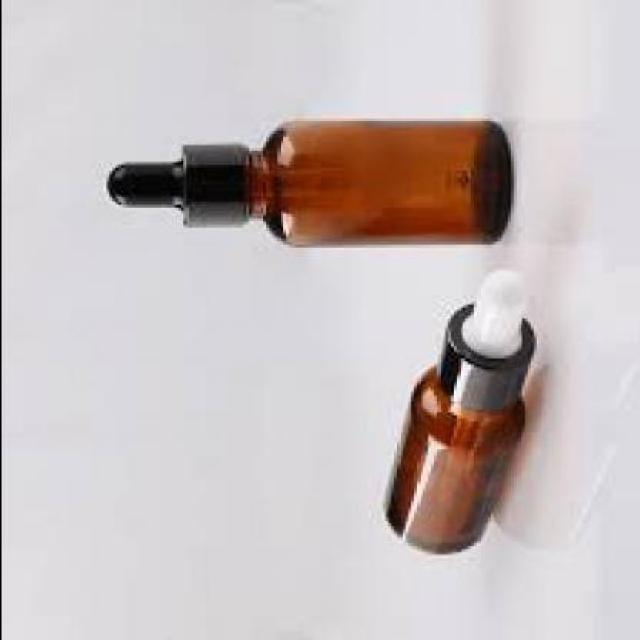glass: (239, 113, 506, 244), (385, 368, 523, 552)
plastic: (436, 265, 530, 406), (103, 143, 248, 226)
